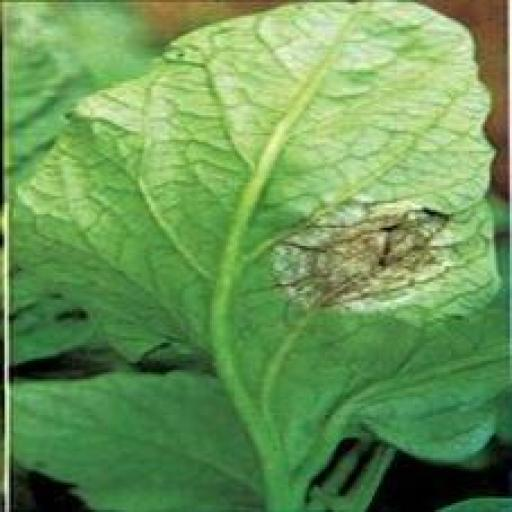Late Blight: (5, 1, 509, 512)
